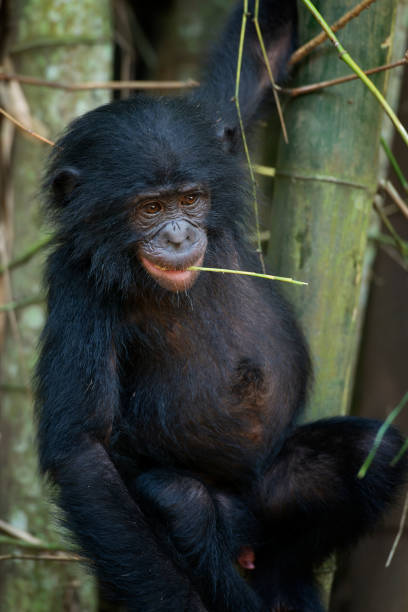chimpanzee: (33, 87, 259, 321)
